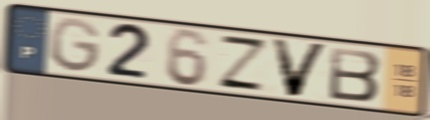2: (103, 19, 156, 86)
6: (163, 26, 213, 89)
B: (327, 44, 384, 104)
G: (48, 15, 104, 75)
V: (268, 36, 333, 100)
Z: (215, 32, 272, 94)
